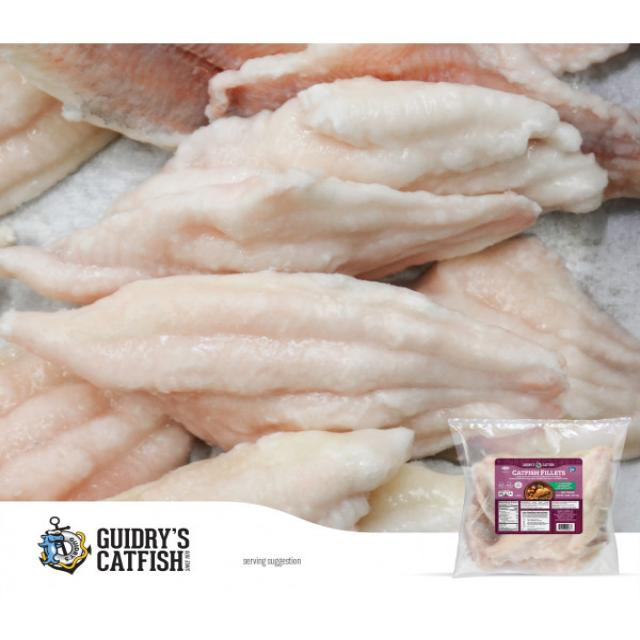Catfish: (4, 54, 628, 422)
